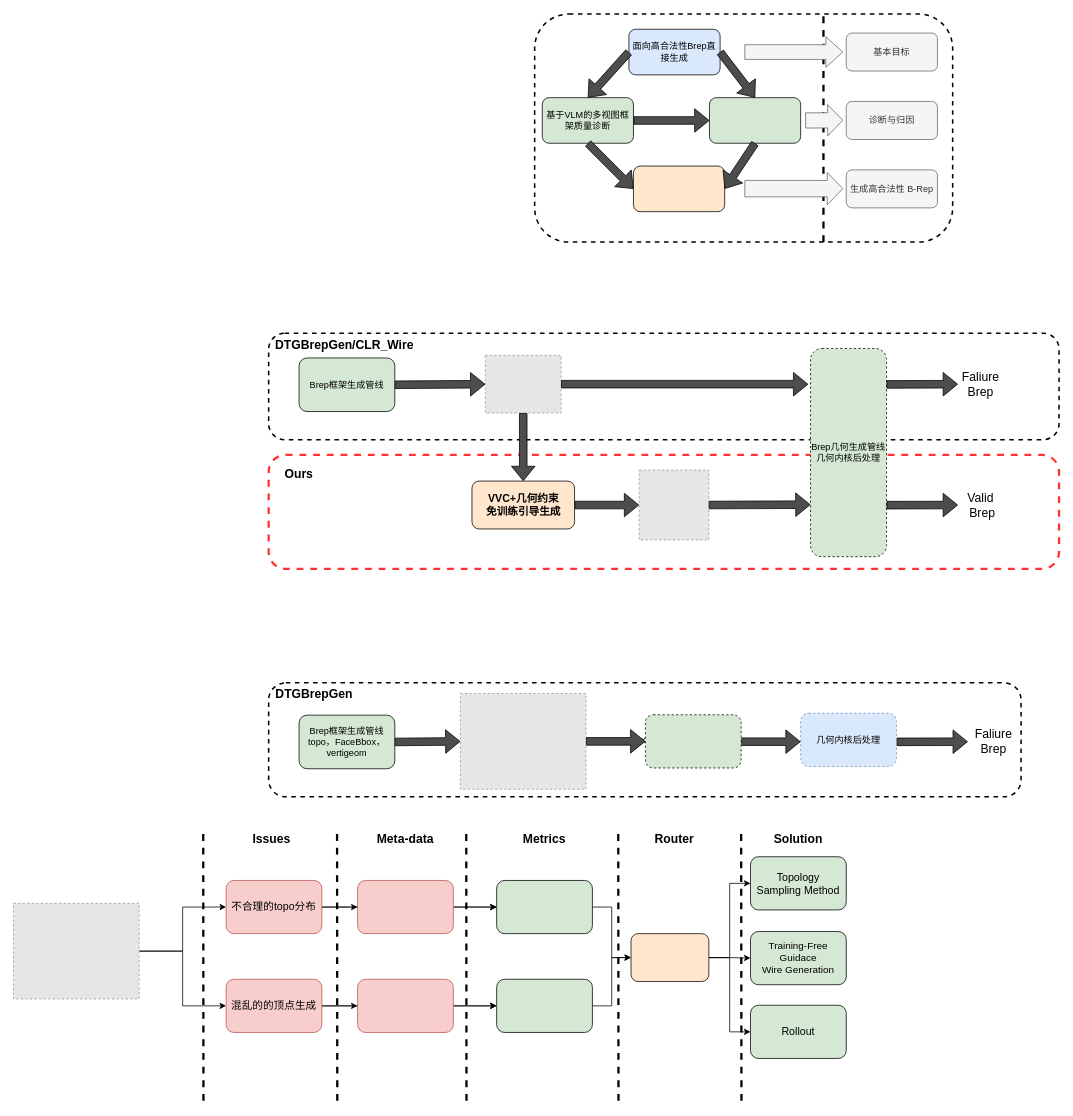
This 1073x1116 diagram has some shape labels left out. Grey dashed boxes stand in for pictures. The shapes that lost their labels are listed below. From the top down, each one's centre as x and y in pixels, then its label:
At (755,120): "几何约束归因".
At (679,188): "基于免训练引导的 B-rep 框架修复".
At (693,741): "Brep几何生成管线 FaceGeom，Edgegeom".
At (405,907): "拓扑数据".
At (544,907): "几何指标约束".
At (669,957): "VVC/几何约束 Router".
At (405,1005): "Brep框架多视角渲染图".
At (544,1005): "视觉合法性评判 Visual Validity Critic".
